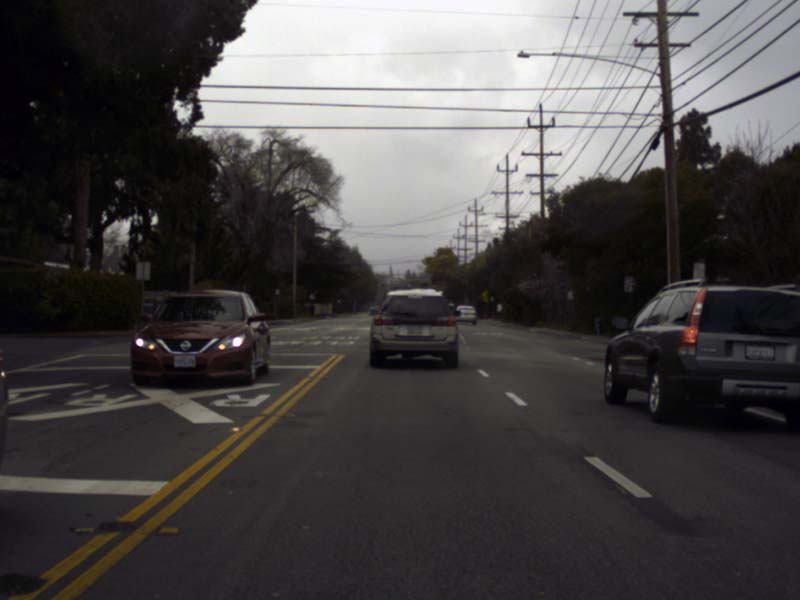Red: (407, 281, 411, 290)
